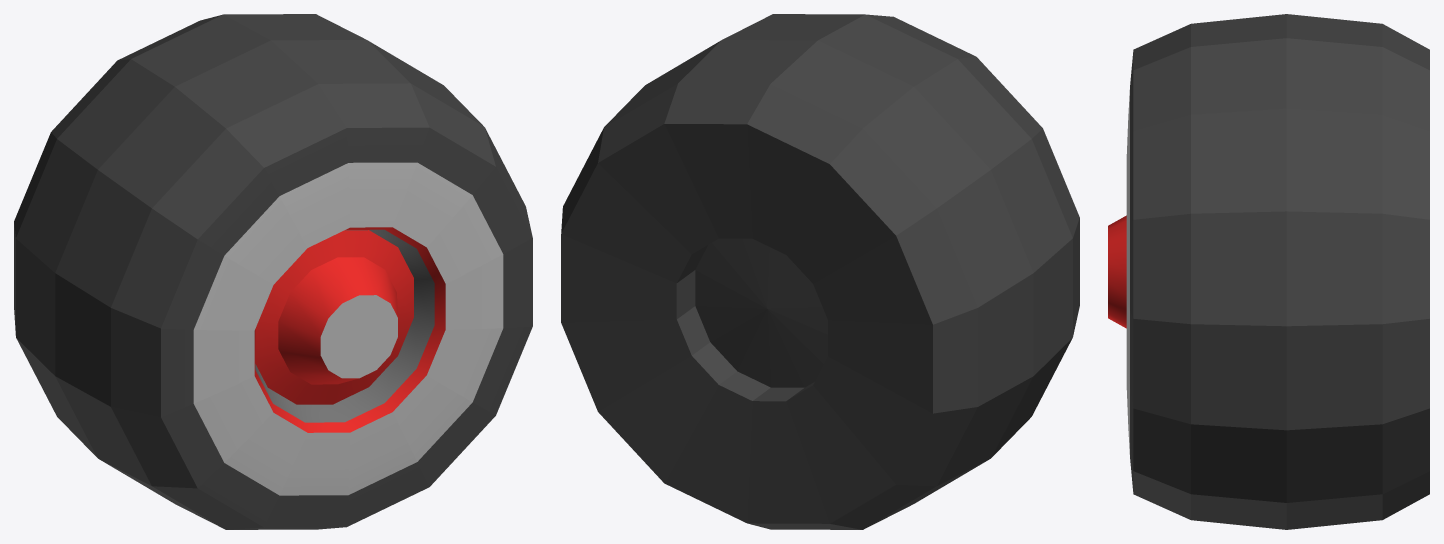
Rendered from wheel8.fbx.
3 renders of one model, left to right at view 1: azimuth 30°, elevation 25°; view 2: azimuth 150°, elevation 25°; view 3: azimuth 270°, elevation 25°, orthographic.
Parts seen in each view (by area): view 1: lanot_wheel6_L; view 2: lanot_wheel6_L; view 3: lanot_wheel6_L.
Boxes of the visible parts, x1=… form: lanot_wheel6_L: x1=14, y1=14, x2=532, y2=529; lanot_wheel6_L: x1=561, y1=14, x2=1079, y2=529; lanot_wheel6_L: x1=1108, y1=14, x2=1429, y2=529.
Size of the model in its own units: 152 by 156 by 97.23.
